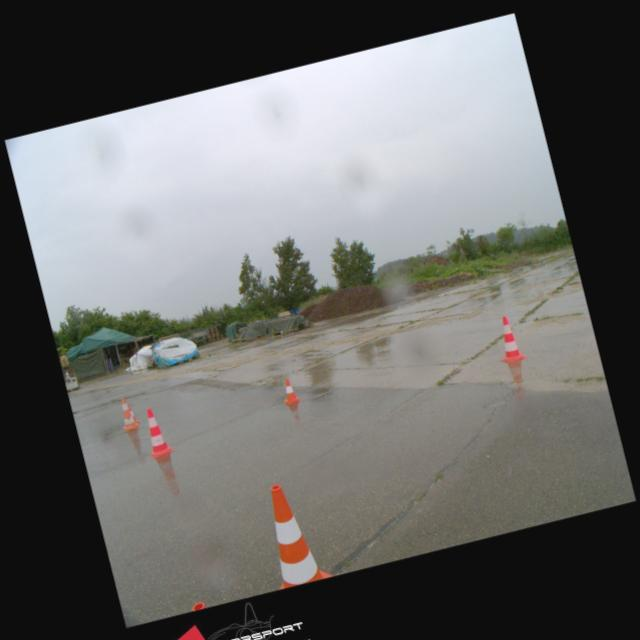large_orange_cone: (252, 477, 332, 589), (138, 405, 172, 458), (490, 313, 526, 363), (115, 394, 138, 430)
orange_cone: (278, 376, 300, 404)
